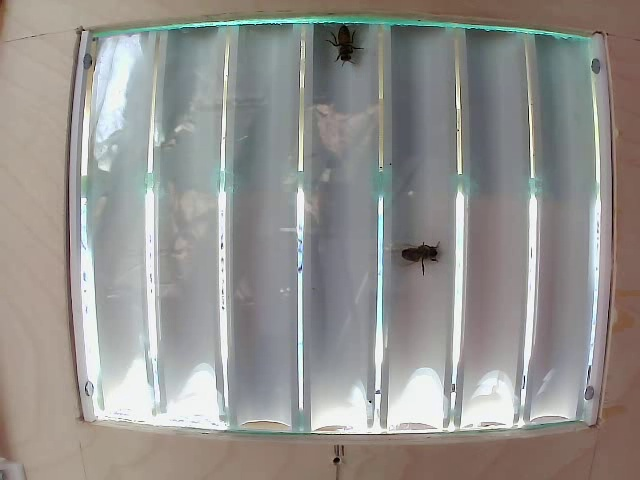bee: (398, 225, 446, 274), (334, 28, 371, 75)
